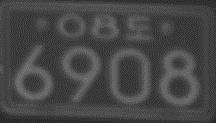0: (108, 46, 152, 107), (56, 11, 87, 38)
6: (14, 44, 54, 101)
8: (158, 48, 200, 107), (90, 13, 120, 39)
9: (60, 45, 103, 103)
도: (124, 15, 154, 41)
